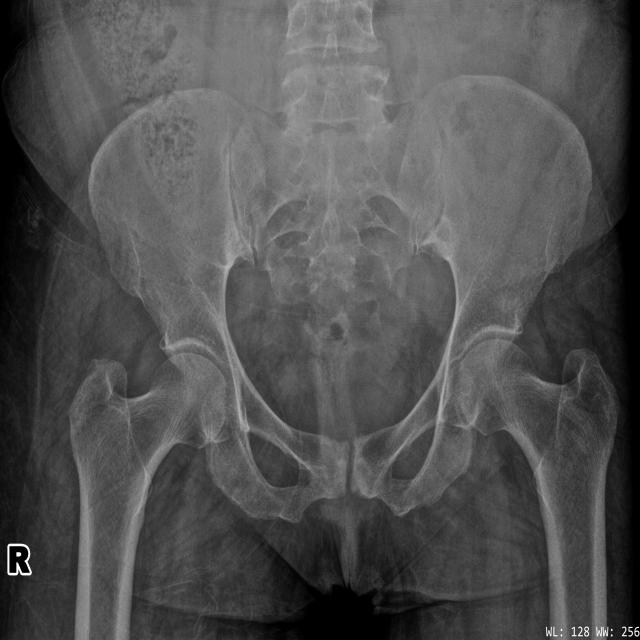normal-left: (459, 340, 619, 640)
normal-right: (69, 354, 225, 640)
